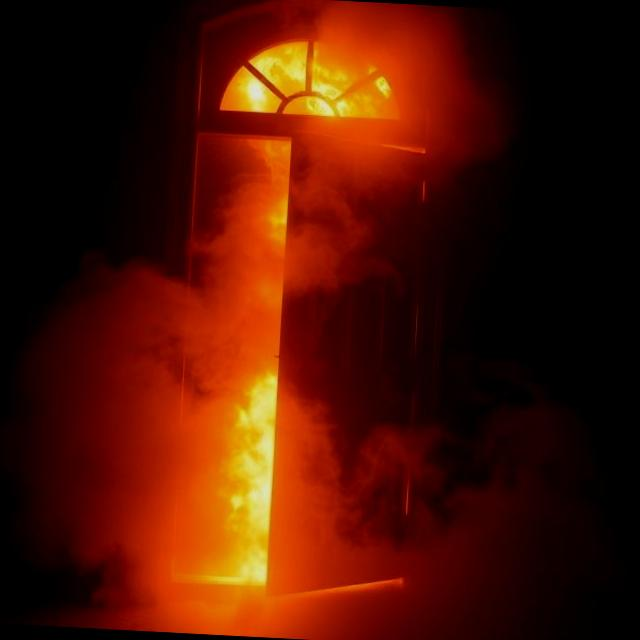fire: (128, 0, 479, 621)
